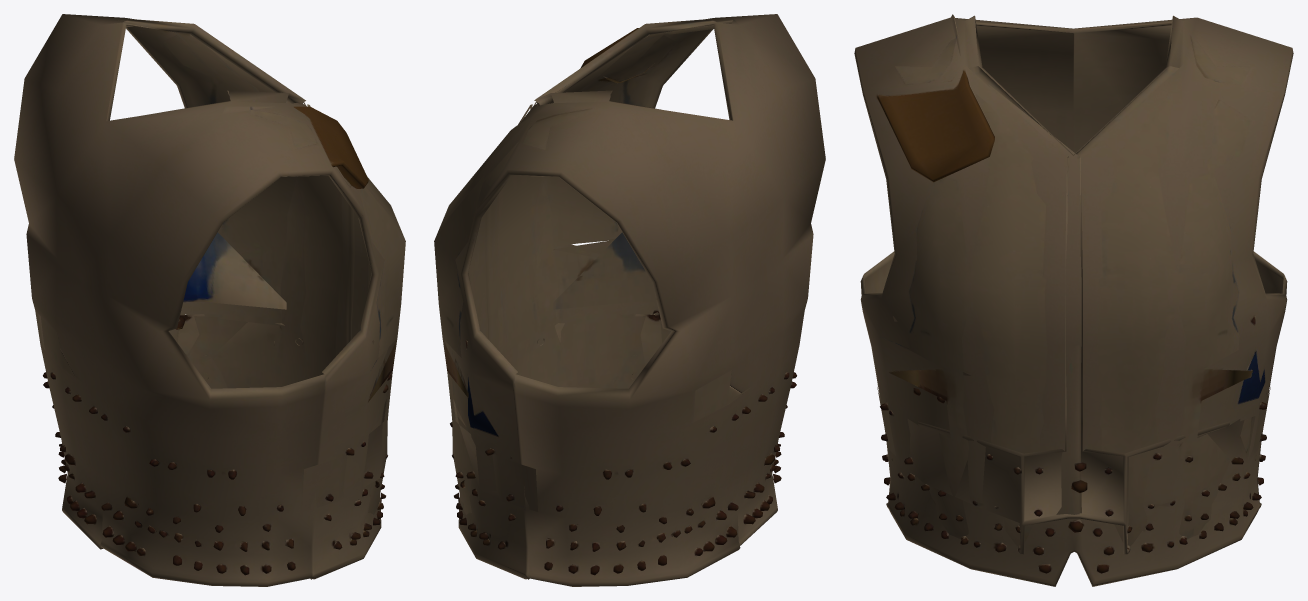
File: studded_jack.glb
The picture shows the model from 3 angles, left to right: view 1: azimuth 30°, elevation 25°; view 2: azimuth 150°, elevation 25°; view 3: azimuth 270°, elevation 25°; orthographic projection.
Visible parts, largest first — view 1: base_model_path; view 2: base_model_path; view 3: base_model_path.
Part boxes in pixels (x1,y1,x2,y2): base_model_path: [14, 14, 405, 586]; base_model_path: [434, 14, 825, 586]; base_model_path: [854, 14, 1293, 586].
Bounding box in the file's own units: 0.6146 × 1 × 0.8123.
Materials: 1 (1 with a texture image).
